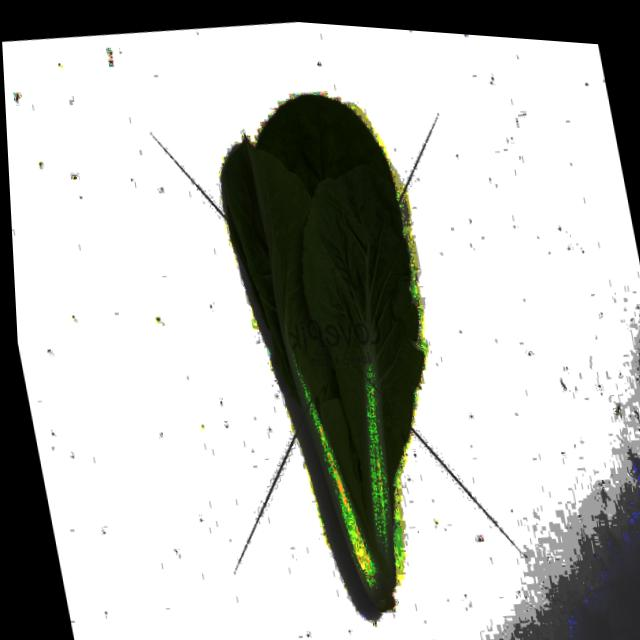chinese_cabbage: (192, 82, 491, 637)
